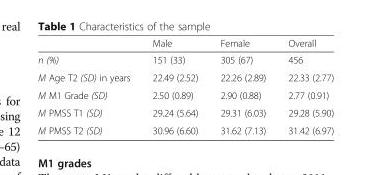table: (37, 37, 333, 135)
table column: (37, 37, 140, 135), (140, 37, 208, 135), (208, 37, 276, 135), (276, 37, 333, 135)
table column header: (37, 37, 333, 51)
table row: (37, 85, 333, 103), (37, 103, 333, 121), (37, 51, 333, 68), (37, 68, 333, 85), (37, 37, 333, 51), (37, 121, 333, 135)
